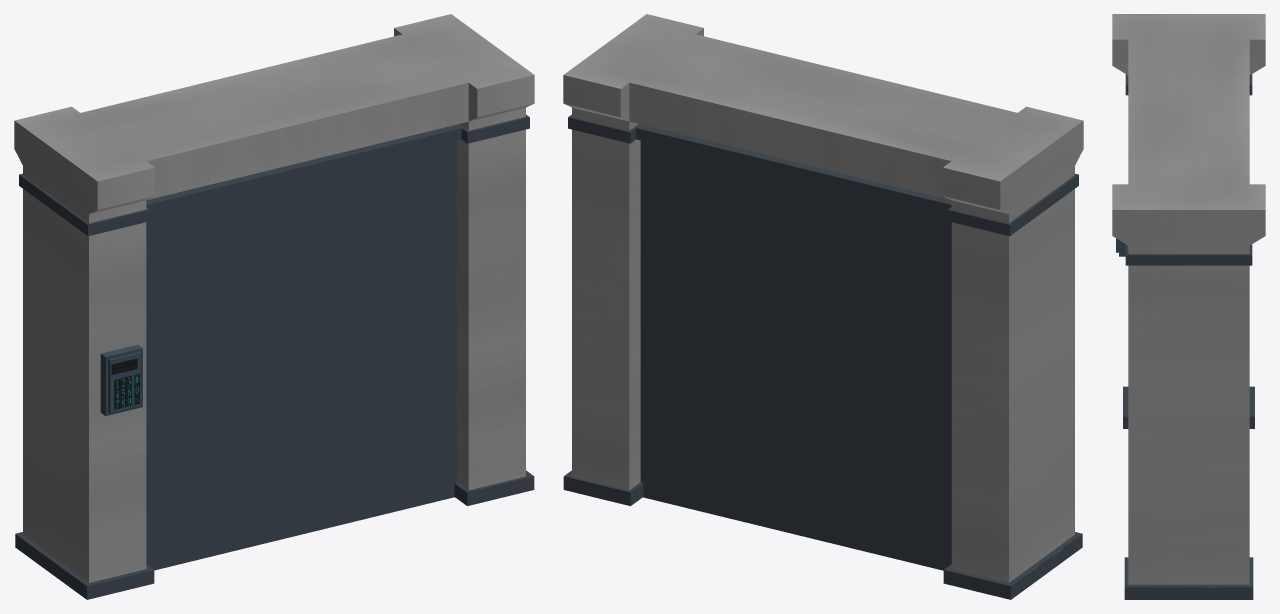
Rendered from door.fbx.
3 views of the same model, side by side, from view 1: azimuth 30°, elevation 25°; view 2: azimuth 150°, elevation 25°; view 3: azimuth 270°, elevation 25° (orthographic). The views are drawn at different scales.
Parts seen in each view (by area): view 1: pCube24, pCube33, pCube26; view 2: pCube24, pCube33; view 3: pCube24.
Part boxes in pixels (left/top/right/bottom): pCube24: left=14, top=14, right=534, bottom=599; pCube33: left=146, top=140, right=456, bottom=570; pCube26: left=100, top=344, right=142, bottom=415; pCube24: left=563, top=14, right=1083, bottom=599; pCube33: left=640, top=140, right=951, bottom=570; pCube24: left=1112, top=14, right=1265, bottom=599.
Size of the model in its own units: 3.08 by 2.77 by 0.9912.
2 materials, 2 textured.
